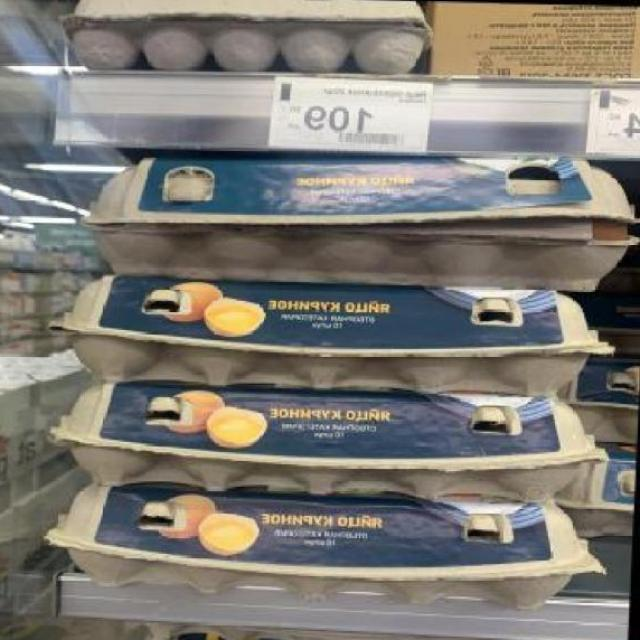Egg: (77, 147, 640, 289), (43, 479, 601, 604), (50, 378, 605, 500), (50, 274, 610, 392), (571, 444, 638, 540)
